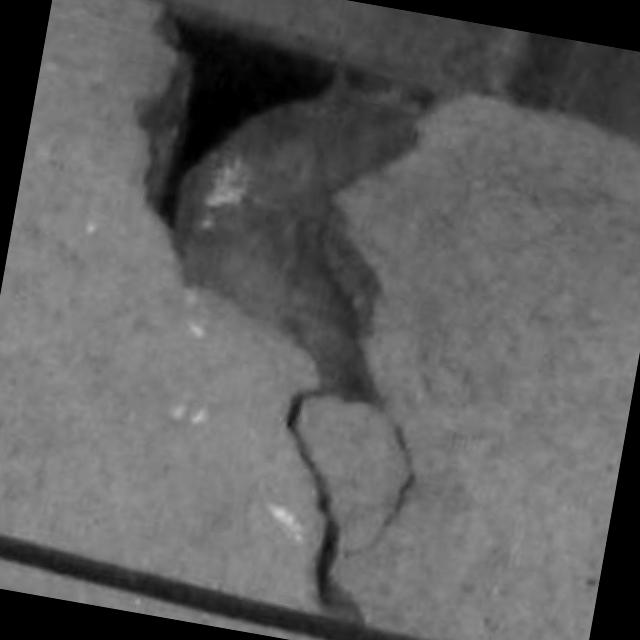crack: (143, 19, 423, 619), (287, 388, 365, 622)
